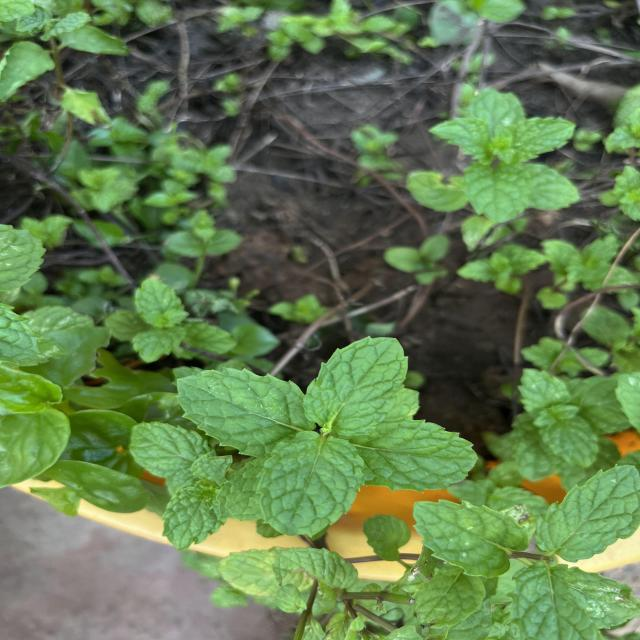Mentha spicata: (174, 366, 306, 460), (254, 430, 366, 538), (301, 334, 410, 438), (532, 462, 640, 564), (411, 498, 530, 580), (358, 418, 479, 496)
